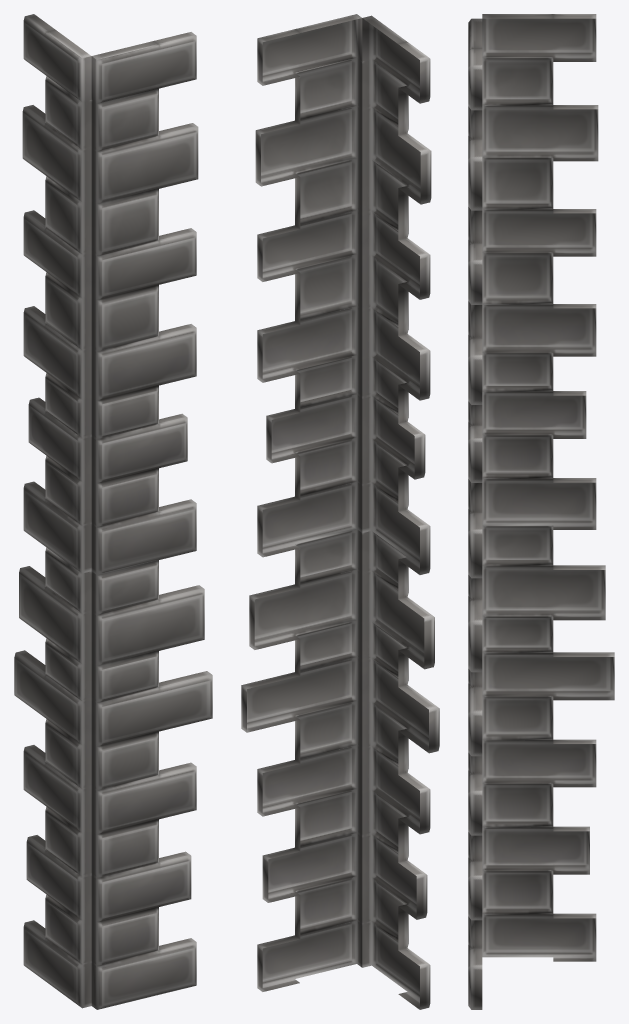
Rendered from PropTrimFacade01_9.FBX.
The picture shows the model from 3 angles, left to right: view 1: azimuth 30°, elevation 25°; view 2: azimuth 210°, elevation 25°; view 3: azimuth 270°, elevation 25°; orthographic projection.
Parts seen in each view (by area): view 1: PropTrimFacade01_9; view 2: PropTrimFacade01_9; view 3: PropTrimFacade01_9.
Part boxes in pixels (<box>): PropTrimFacade01_9: <box>14,14,212,1009</box>; PropTrimFacade01_9: <box>241,14,439,1009</box>; PropTrimFacade01_9: <box>468,14,614,1009</box>.
Size of what is drawn, in the model's own units: 0.4915 by 3.5 by 0.4915.
